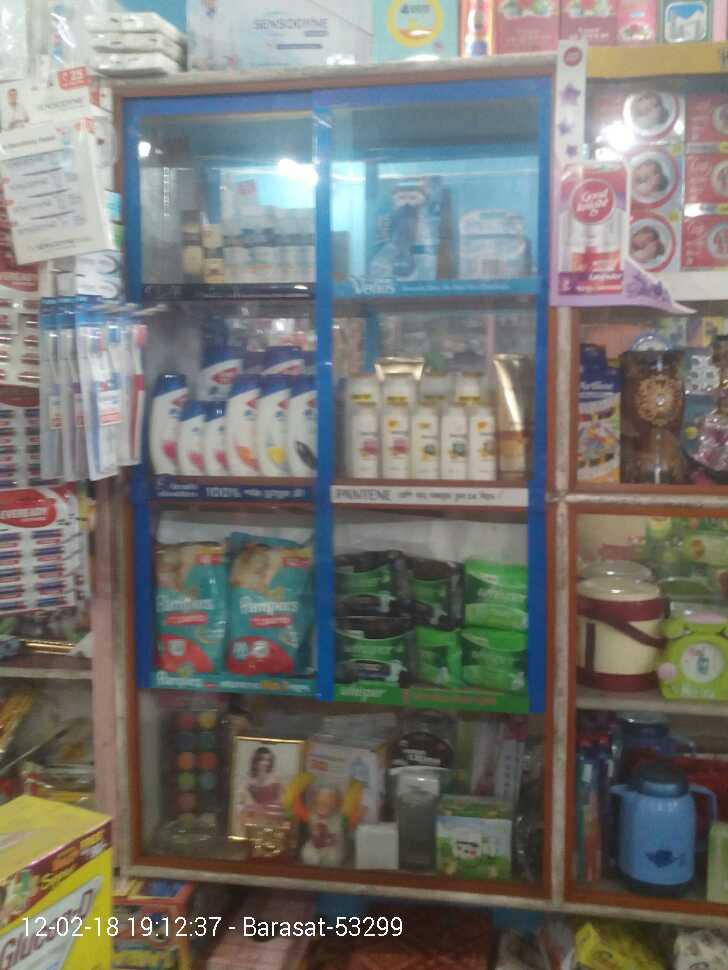venus: (364, 170, 442, 281), (461, 208, 528, 270)
